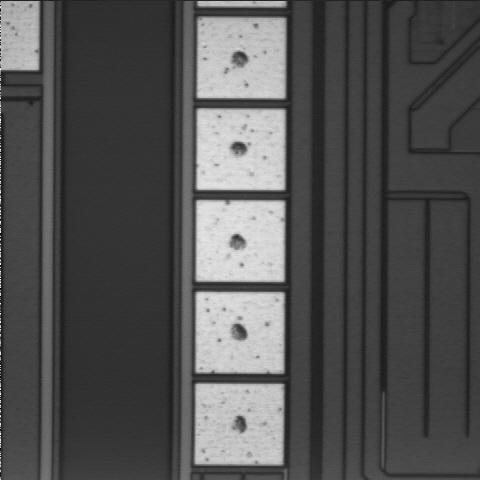pad: (196, 200, 284, 282), (197, 109, 285, 190), (196, 292, 284, 373), (197, 18, 285, 98), (195, 384, 283, 464)
